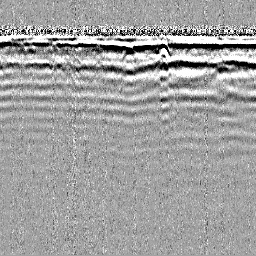cavity: (120, 43, 138, 59)
